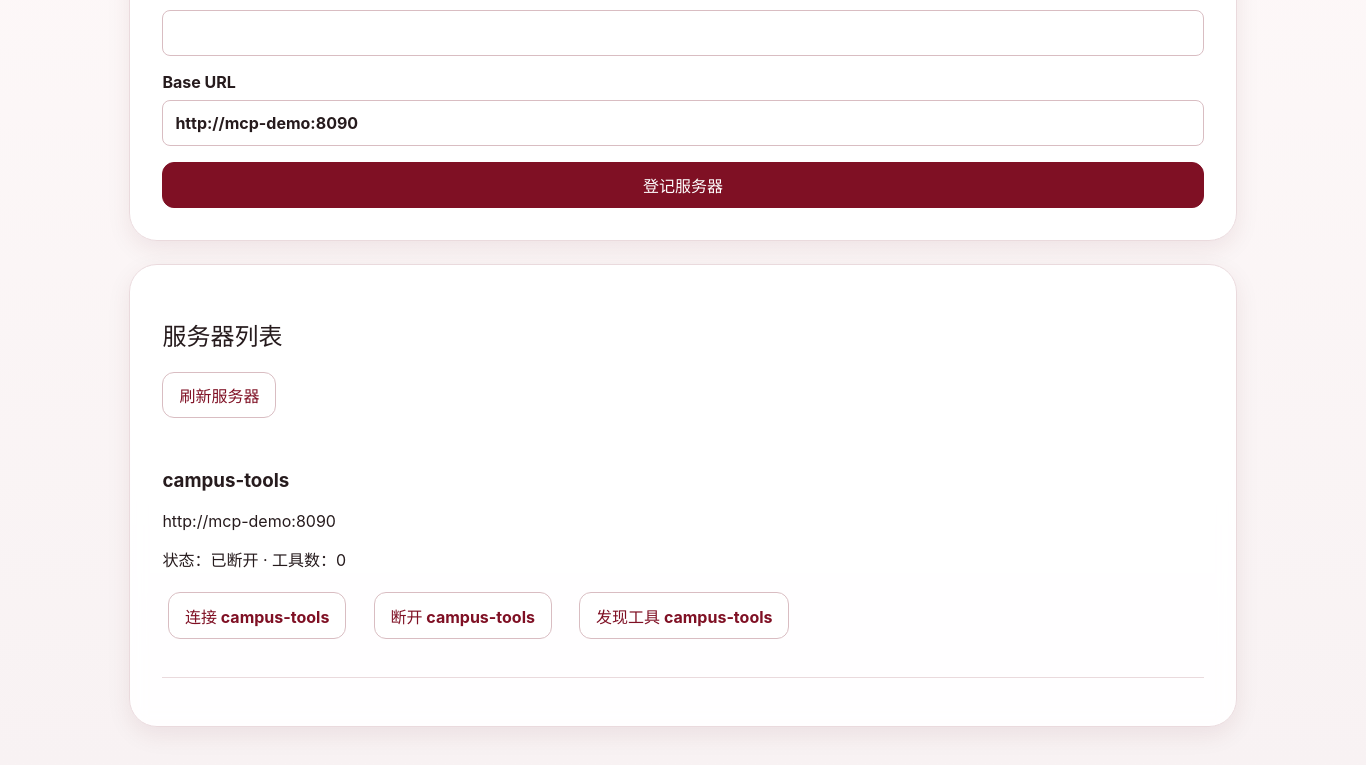
it: class-shared MCP management › shows actionable fixed errors, clears stale discovery and does not retry a failed connect
(page scrolled)
Click the button "发现工具 campus-tools" at (684, 616), box [579,592,790,639]
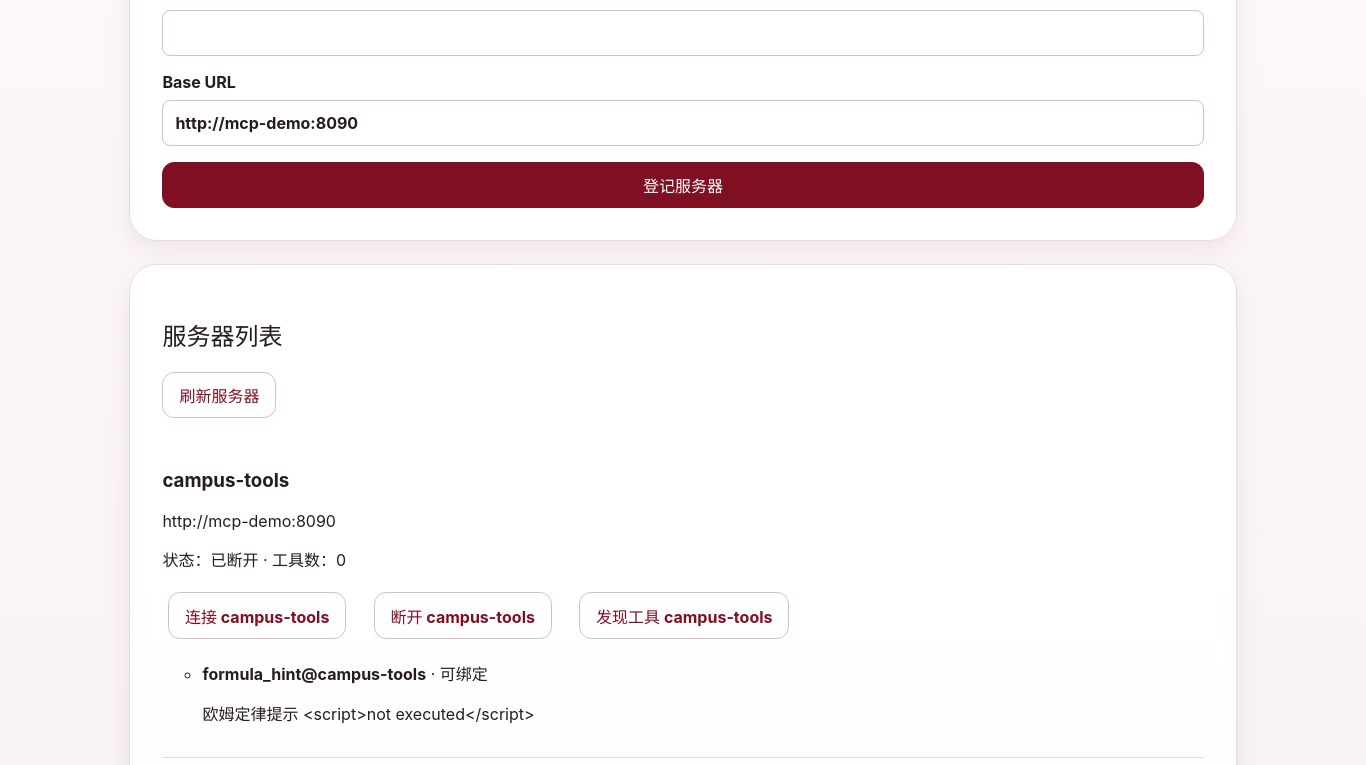
Expected: the text "formula_hint@campus-tools" is shown, [202,664,426,684]
Click the button "连接 campus-tools" at (257, 616), box [168,592,346,639]
(page scrolled)
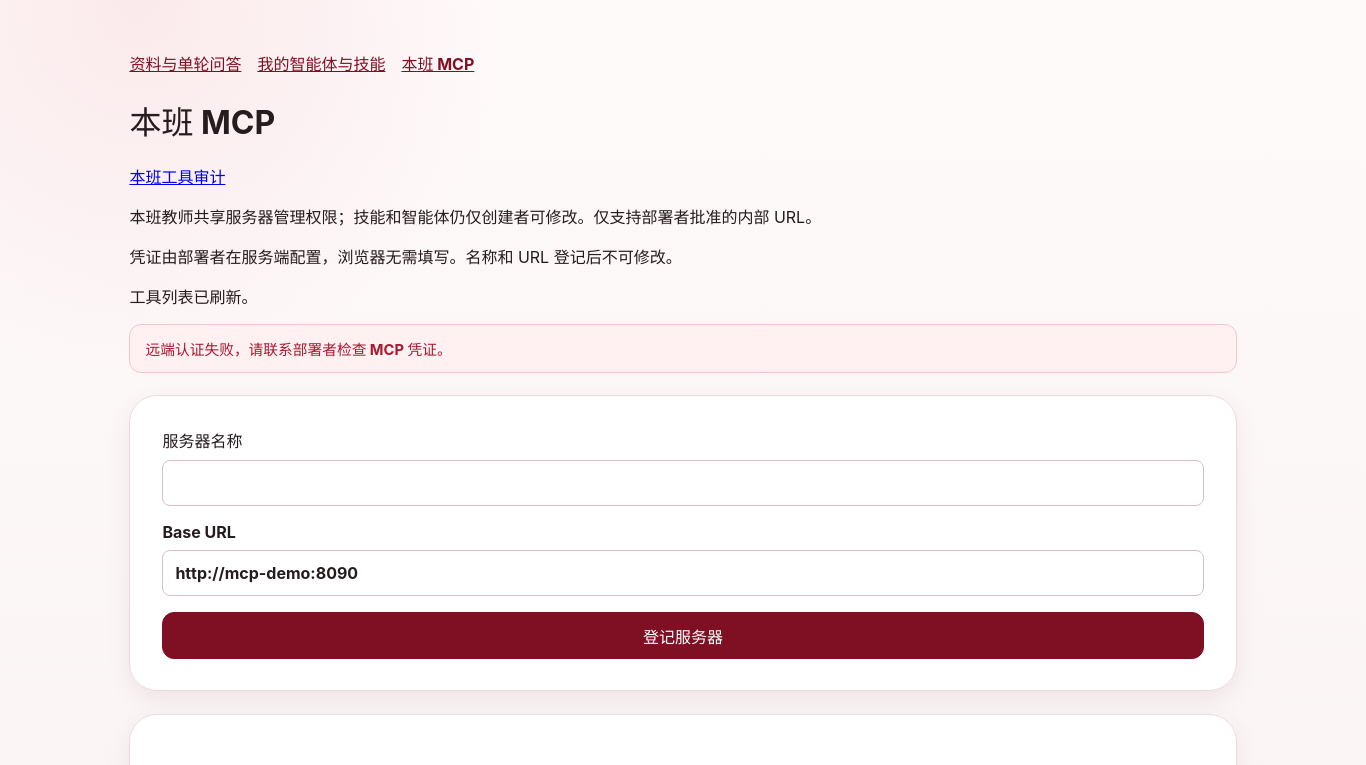
Expected: the message "远端认证失败，请联系部署者检查 MCP 凭证。" is shown, [129,324,1237,373]
Expected: the text "formula_hint@campus-tools" is gone
